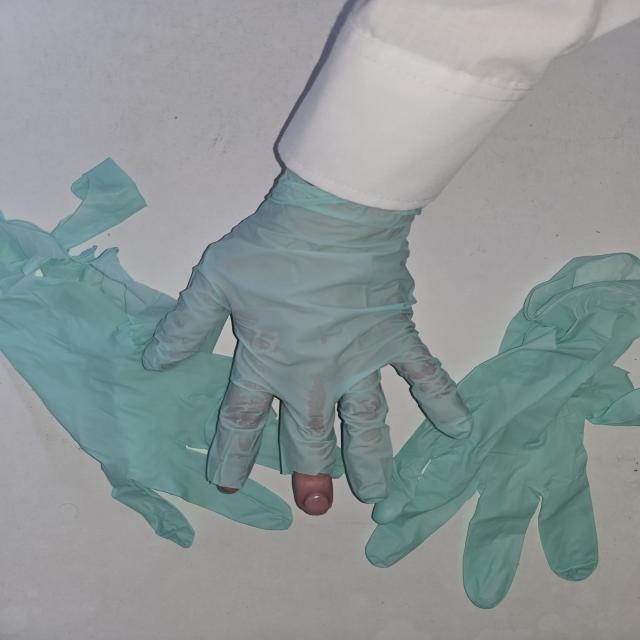gloves_damaged: (145, 165, 476, 518)
